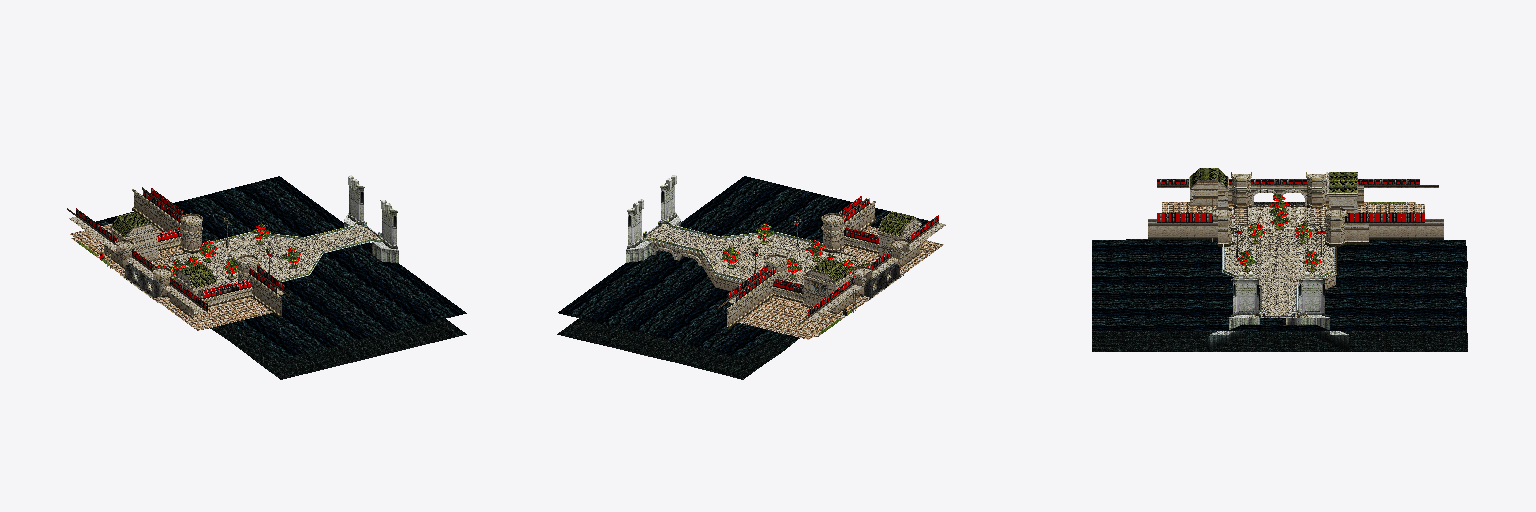
The picture shows the model from 3 angles: view 1: azimuth 30°, elevation 25°; view 2: azimuth 150°, elevation 25°; view 3: azimuth 270°, elevation 25°; orthographic projection.
Parts seen in each view (by area): view 1: Object.007; view 2: Object.007; view 3: Object.007.
Boxes of the visible parts, box(x1,y1,x2,y2) form: Object.007: box(67, 175, 466, 379); Object.007: box(557, 175, 945, 379); Object.007: box(1092, 168, 1467, 351).
Bounding box in the file's own units: 57.63 × 18 × 79.93.
Materials: 24 (24 with a texture image).